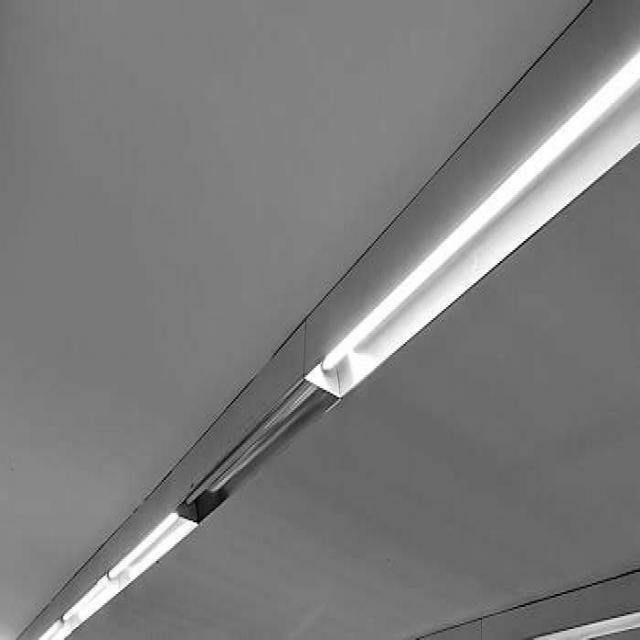light: (13, 0, 638, 639)
